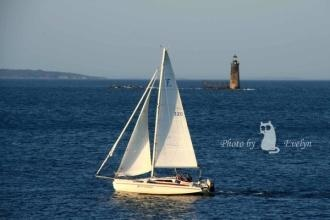fanchuan: (96, 49, 213, 194)
